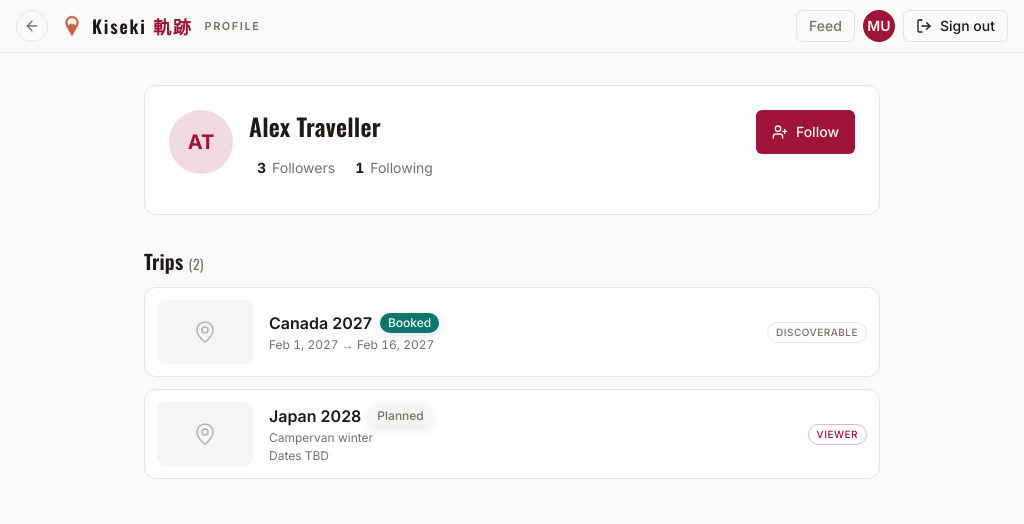
Test: ProfilePage — a peer's profile › a failed follow never claims success — the button stays and an error shows
This screenshot has width=1024, height=524.
Click the button with aria-label "Follow Alex Traveller".
click(805, 132)  # box x1=756 y1=110 x2=855 y2=154
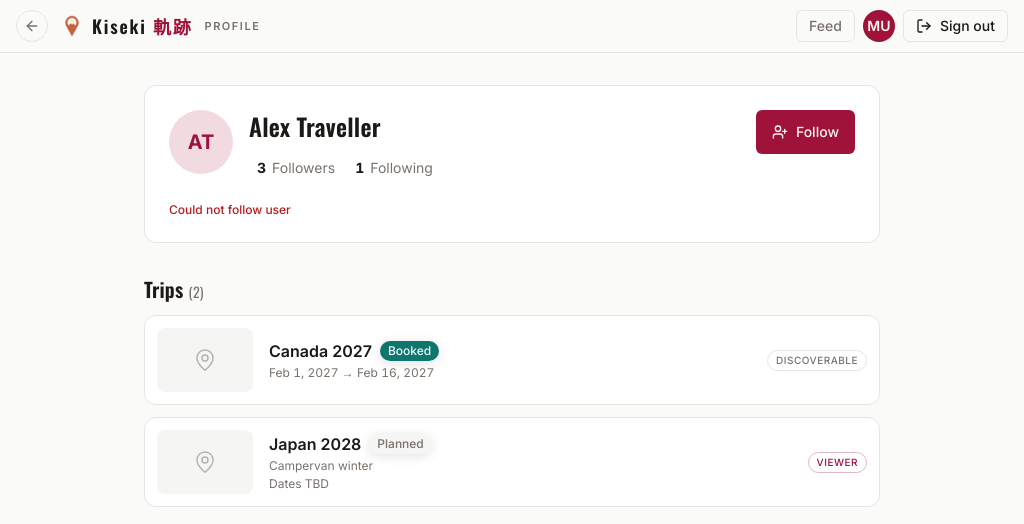
Expected: the message "Could not follow user" is shown, x1=169 y1=202 x2=291 y2=217
